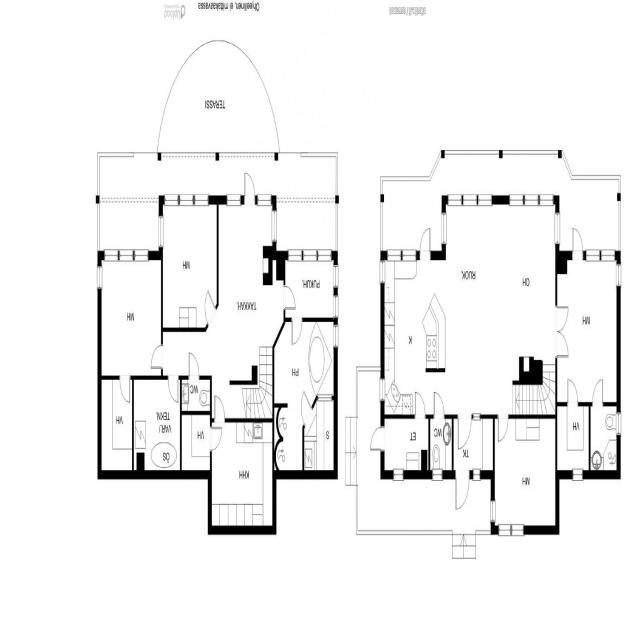door: (553, 297, 571, 363), (454, 470, 471, 511), (456, 410, 472, 450), (300, 386, 315, 426), (368, 422, 385, 453), (419, 223, 433, 259), (570, 223, 584, 259), (282, 280, 298, 311), (496, 410, 510, 445), (204, 287, 217, 324), (149, 340, 165, 370), (209, 421, 224, 453), (566, 373, 580, 407), (591, 374, 605, 407), (290, 313, 304, 346), (242, 168, 255, 203), (118, 371, 132, 403), (432, 388, 446, 419), (166, 374, 180, 404), (187, 349, 201, 379), (212, 392, 226, 422), (414, 388, 427, 418)
window: (114, 242, 152, 263), (585, 243, 616, 264), (497, 518, 528, 539), (508, 187, 542, 206), (288, 243, 322, 262), (459, 188, 494, 206), (102, 242, 133, 262), (523, 188, 556, 206), (384, 242, 414, 261), (94, 195, 102, 254), (378, 197, 386, 254), (401, 240, 418, 264), (167, 190, 196, 204), (553, 205, 562, 247), (446, 188, 466, 205), (157, 209, 165, 250), (614, 256, 623, 292), (270, 206, 278, 246), (440, 206, 448, 246), (193, 188, 211, 204), (225, 190, 242, 206), (390, 466, 406, 483), (332, 256, 340, 290), (570, 466, 585, 484), (377, 256, 386, 285), (163, 190, 179, 206), (332, 291, 340, 323), (256, 190, 273, 205), (96, 262, 104, 293), (616, 408, 624, 438), (286, 246, 302, 261), (332, 320, 339, 351), (379, 372, 386, 402), (432, 467, 444, 482), (490, 496, 496, 526), (471, 467, 481, 483)
zone: (441, 196, 556, 410), (216, 198, 277, 374), (556, 256, 618, 404), (383, 252, 440, 412), (99, 255, 164, 377), (492, 413, 558, 529), (160, 198, 218, 328), (210, 418, 273, 529), (274, 320, 336, 404), (134, 376, 181, 472), (283, 253, 337, 319), (100, 374, 133, 472), (382, 414, 429, 473), (304, 394, 336, 473), (454, 414, 493, 477), (556, 401, 590, 473), (589, 404, 619, 472), (276, 404, 304, 471), (182, 410, 210, 471), (429, 416, 453, 473), (181, 376, 211, 413)
